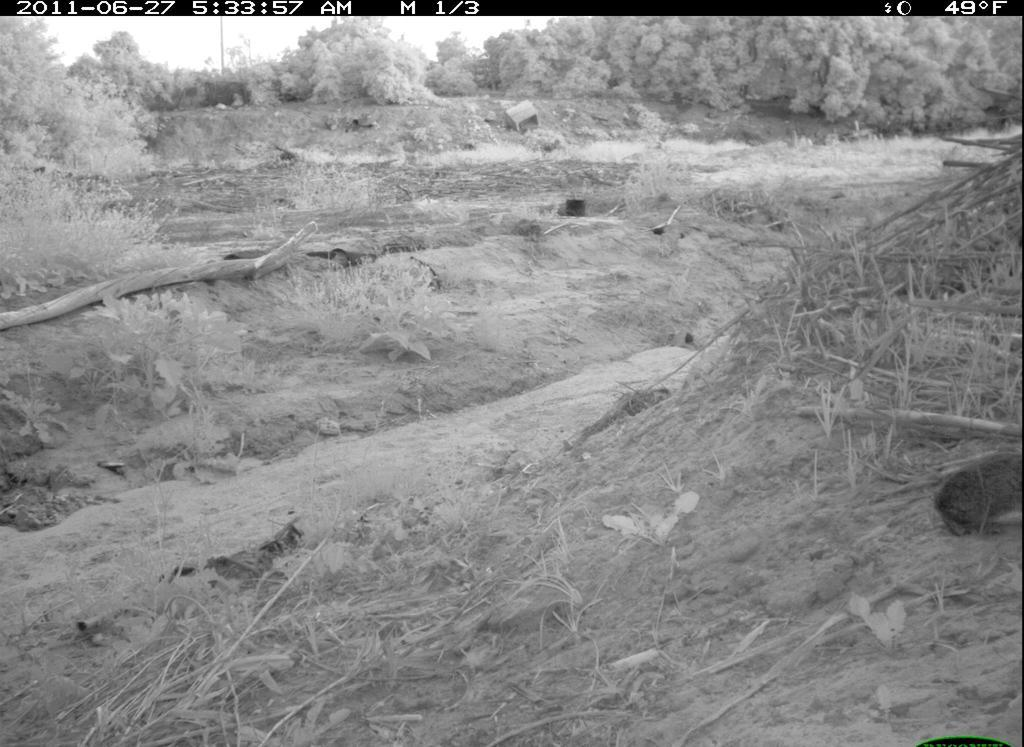rabbit: (921, 437, 1023, 547)
